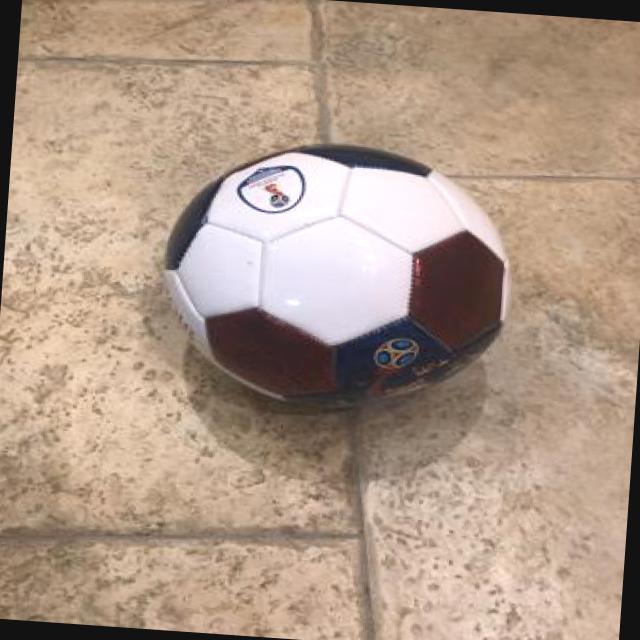Soccer Ball: (150, 130, 520, 421)
